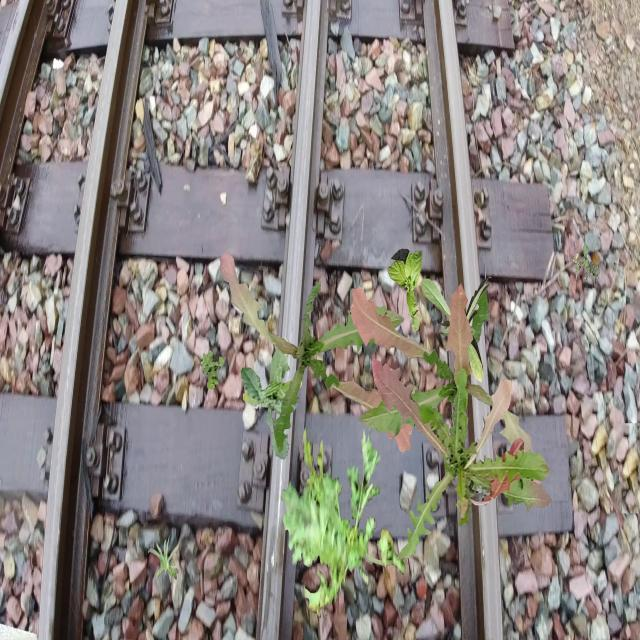Plant: (372, 283, 552, 561), (350, 285, 542, 488), (220, 252, 412, 454), (281, 425, 406, 621), (240, 337, 302, 462), (421, 276, 492, 384), (387, 248, 422, 332), (148, 535, 180, 581), (572, 243, 600, 284), (201, 350, 225, 391)
